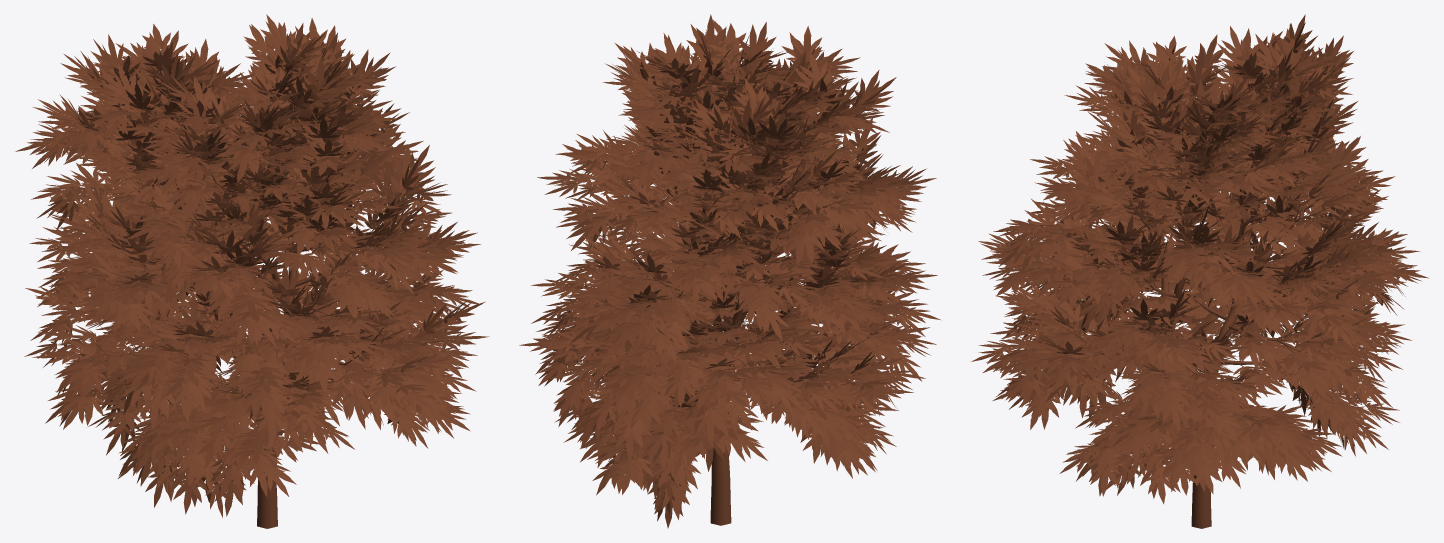
File: maple1.fbx
3 views of the same model, side by side, from view 1: azimuth 30°, elevation 25°; view 2: azimuth 150°, elevation 25°; view 3: azimuth 270°, elevation 25° (orthographic). The views are drawn at different scales.
Visible parts, largest first — view 1: leaves, tree; view 2: leaves, tree; view 3: leaves, tree.
Boxes of the visible parts, bbox=[...] form: leaves: bbox=[15, 14, 489, 517]; tree: bbox=[57, 49, 453, 528]; leaves: bbox=[519, 14, 941, 528]; tree: bbox=[562, 48, 903, 525]; leaves: bbox=[971, 14, 1428, 504]; tree: bbox=[1002, 58, 1386, 528].
Size of the model in its own units: 585 by 694 by 628.
